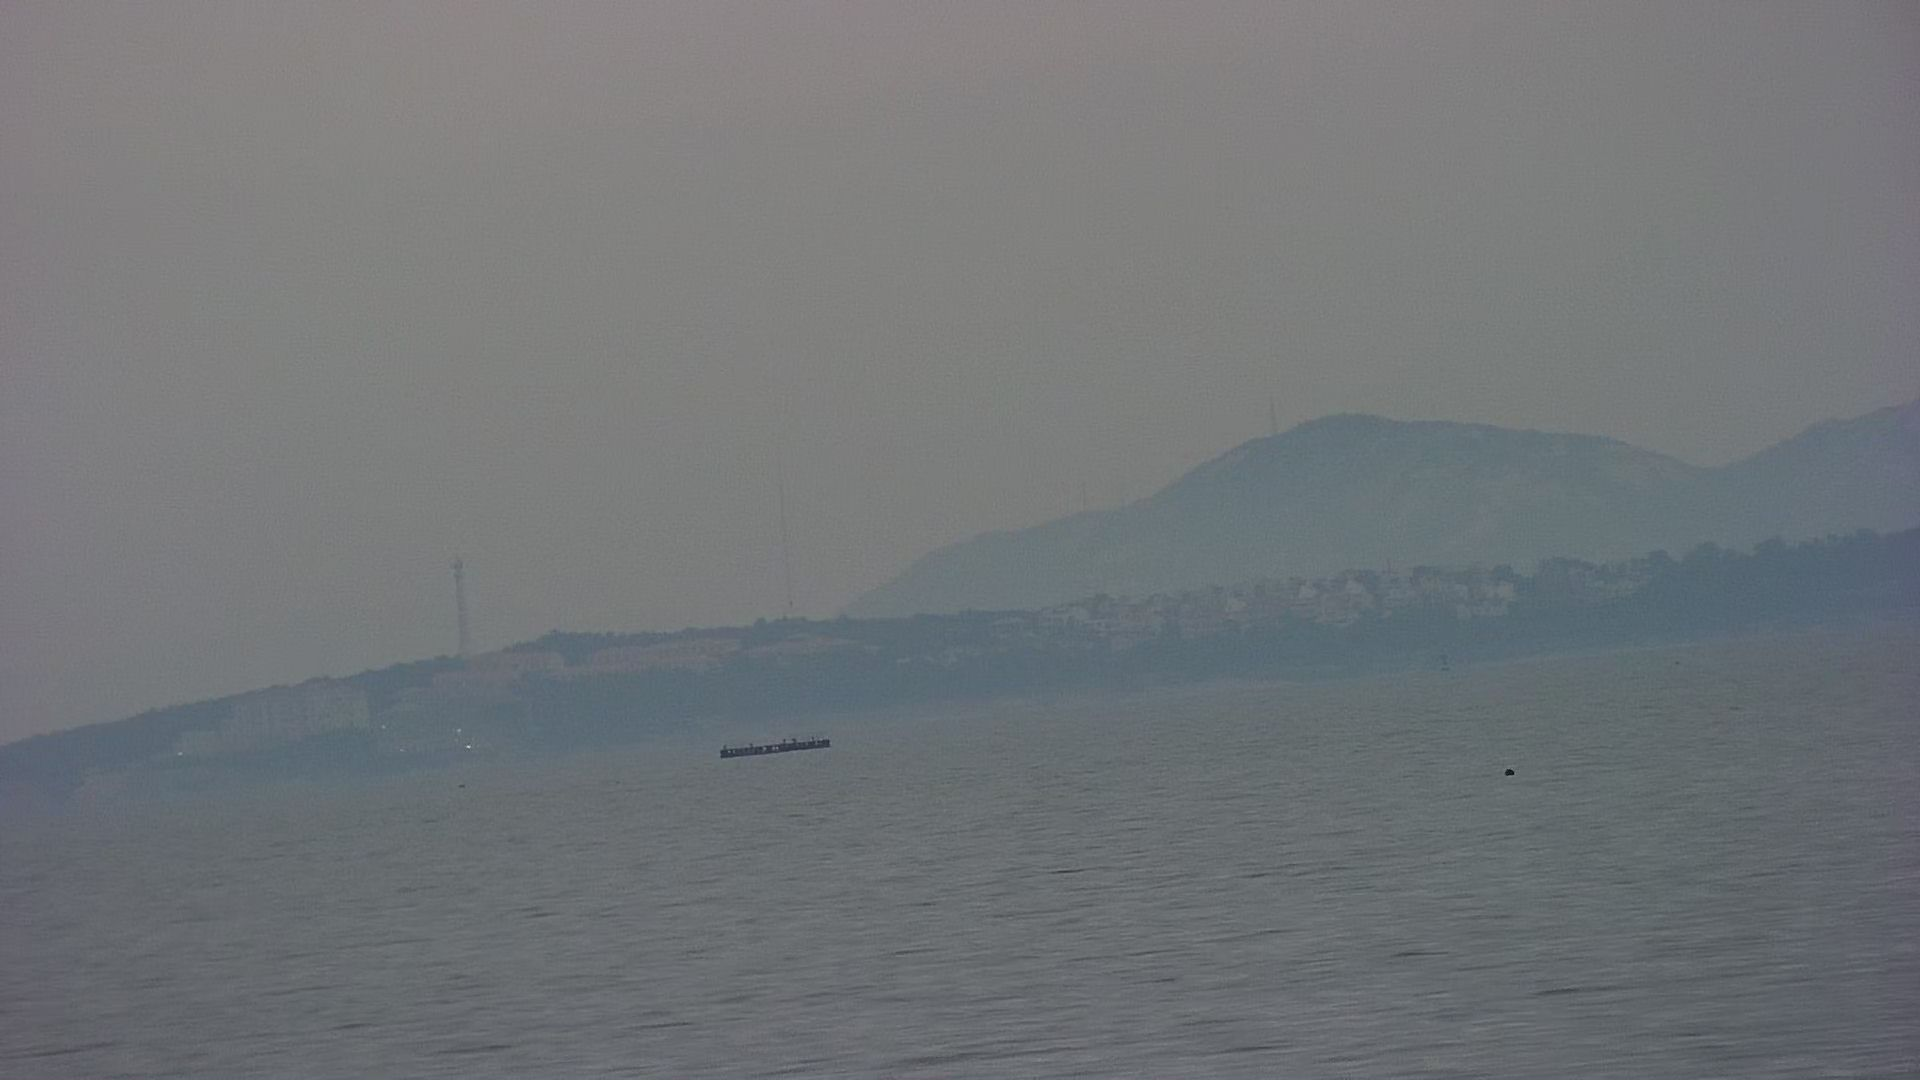platform: (719, 731, 840, 758)
